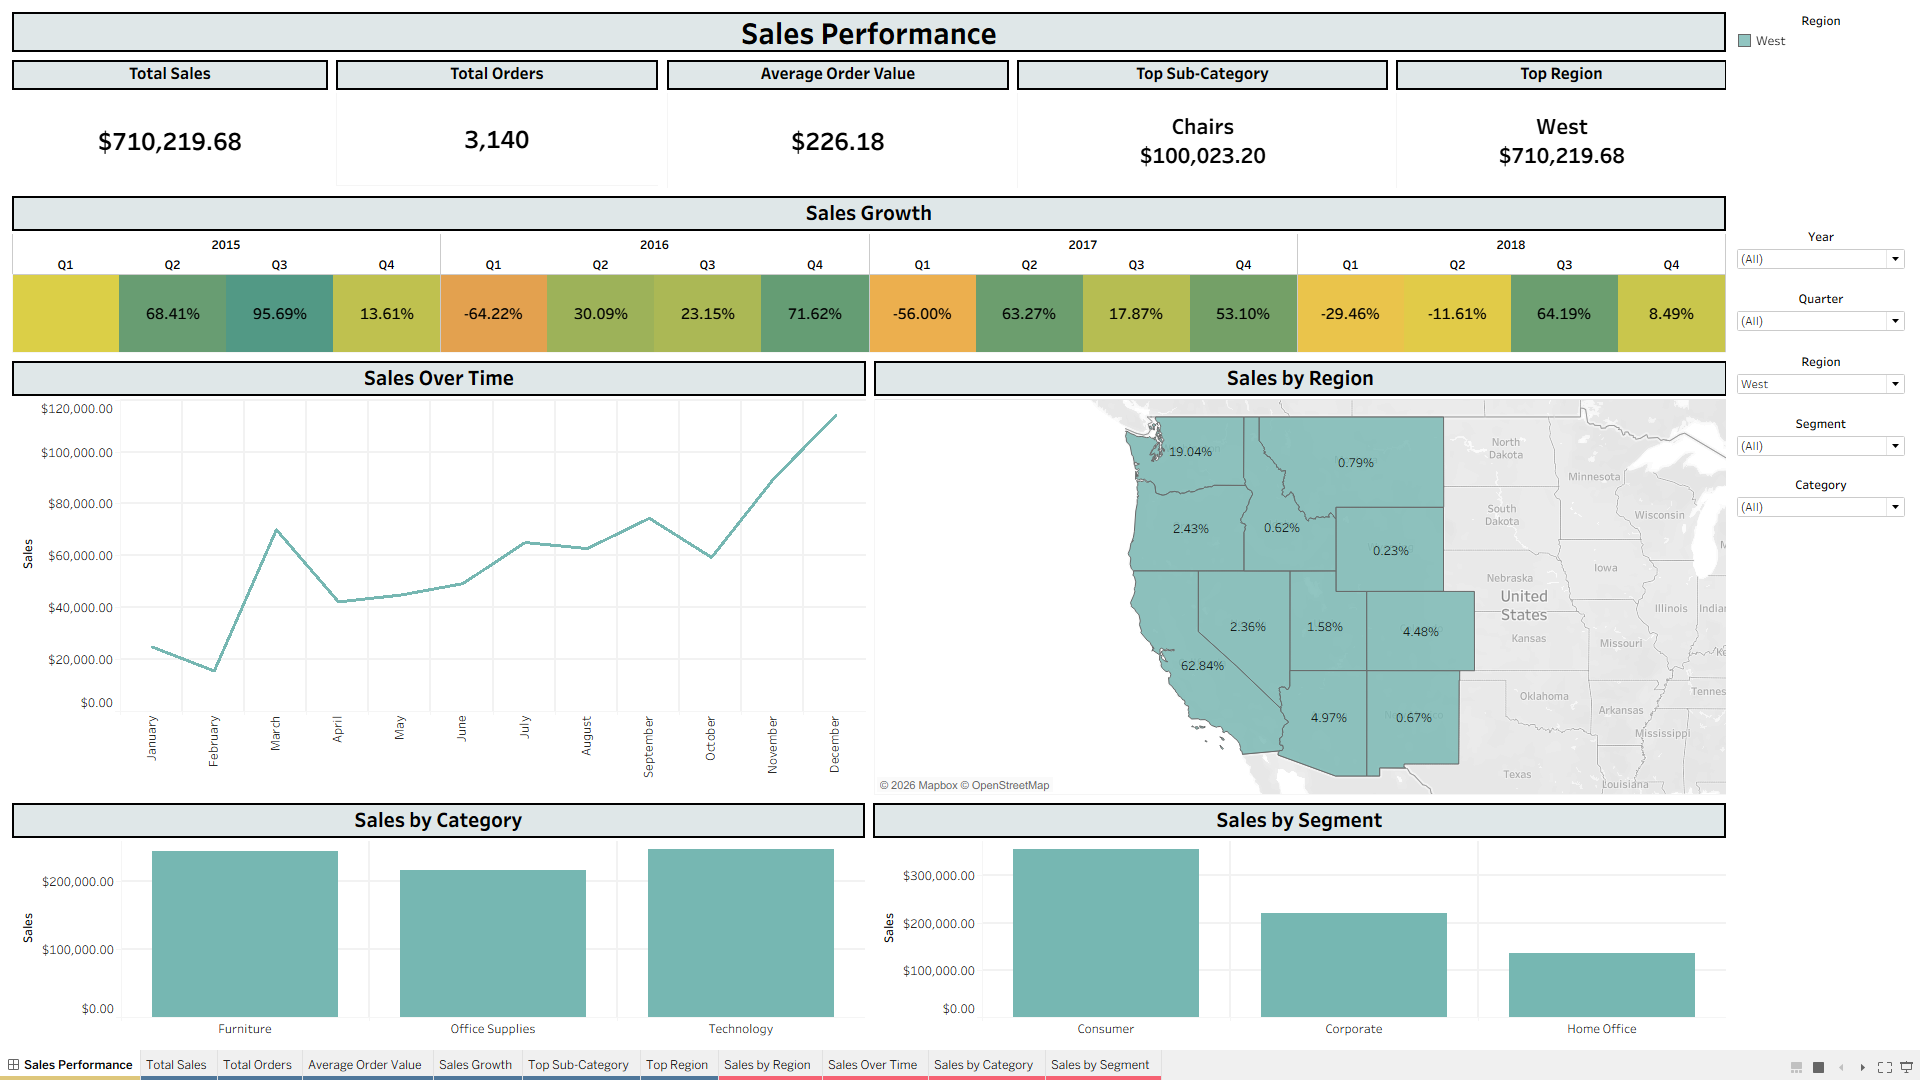

What the dashboard file says about the page in this screenshot:
{"tool":"tableau","page":{"name":"Sales Performance","canvas":[1000,1000],"units":"permille","ordinal":0},"visuals":[{"type":"title","box":[4.3,9.8,896.9,58.5]},{"type":"legend","title":"Sales by Region","param":"[federated.05i0j671lpl5bh1a86nyh1atq0u8].[none:Region:nk]","box":[901.1,9.8,94.6,205.2]},{"type":"worksheet","title":"Total Sales","mark":"Automatic","box":[4.3,68.3,169,127.6]},{"type":"worksheet","title":"Total Orders","mark":"Automatic","box":[173.2,68.3,172,127.6]},{"type":"worksheet","title":"Average Order Value","mark":"Automatic","box":[345.2,68.3,182.4,127.6]},{"type":"worksheet","title":"Top Sub-Category","mark":"Automatic","box":[527.6,68.3,197.2,127.6]},{"type":"worksheet","title":"Top Region","mark":"Automatic","box":[724.8,68.3,176.3,127.6]},{"type":"worksheet","title":"Sales Growth","mark":"Square","cols":["Order Date","Order Date"],"box":[4.3,195.9,896.9,154.1]},{"type":"filter","title":"Sales by Region","param":"[federated.05i0j671lpl5bh1a86nyh1atq0u8].[yr:Order Date:ok]","box":[901.1,214.9,94.6,59]},{"type":"filter","title":"Sales by Region","param":"[federated.05i0j671lpl5bh1a86nyh1atq0u8].[qr:Order Date:ok]","box":[901.1,273.9,94.6,59]},{"type":"filter","title":"Sales by Region","param":"[federated.05i0j671lpl5bh1a86nyh1atq0u8].[none:Region:nk]","box":[901.1,332.9,94.6,75.6]},{"type":"worksheet","title":"Sales Over Time","mark":"Automatic","rows":["Sales"],"cols":["Order Date"],"box":[4.3,350,448.8,413.3]},{"type":"worksheet","title":"Sales by Region","mark":"Multipolygon","box":[453.1,350,448,413.3]},{"type":"filter","title":"Sales by Region","param":"[federated.05i0j671lpl5bh1a86nyh1atq0u8].[none:Segment:nk]","box":[901.1,408.5,94.6,74.4]},{"type":"filter","title":"Sales by Region","param":"[federated.05i0j671lpl5bh1a86nyh1atq0u8].[none:Category:nk]","box":[901.1,482.9,94.6,76.8]},{"type":"blank","box":[901.1,559.8,94.6,430.5]},{"type":"worksheet","title":"Sales by Category","mark":"Automatic","rows":["Sales"],"cols":["Category"],"box":[4.3,763.3,448.3,227]},{"type":"worksheet","title":"Sales by Segment","mark":"Automatic","rows":["Sales"],"cols":["Segment"],"box":[452.6,763.3,448.5,227]}]}

Visuals, with their boxes on the dashboard's canvas, which has no fixed pixel size, in thousandths of its width and height (x1, y1, x2, y2). These are canvas units, not pixel positions in the 1920x1080 screenshot, which may show the page scaled, cropped or inside an application window:
title: (x1=4, y1=10, x2=901, y2=68)
"Sales by Region" legend: (x1=901, y1=10, x2=996, y2=215)
"Total Sales" worksheet: (x1=4, y1=68, x2=173, y2=196)
"Total Orders" worksheet: (x1=173, y1=68, x2=345, y2=196)
"Average Order Value" worksheet: (x1=345, y1=68, x2=528, y2=196)
"Top Sub-Category" worksheet: (x1=528, y1=68, x2=725, y2=196)
"Top Region" worksheet: (x1=725, y1=68, x2=901, y2=196)
"Sales Growth" worksheet (Square marks): (x1=4, y1=196, x2=901, y2=350)
"Sales by Region" filter: (x1=901, y1=215, x2=996, y2=274)
"Sales by Region" filter: (x1=901, y1=274, x2=996, y2=333)
"Sales by Region" filter: (x1=901, y1=333, x2=996, y2=408)
"Sales Over Time" worksheet: (x1=4, y1=350, x2=453, y2=763)
"Sales by Region" worksheet (Multipolygon marks): (x1=453, y1=350, x2=901, y2=763)
"Sales by Region" filter: (x1=901, y1=408, x2=996, y2=483)
"Sales by Region" filter: (x1=901, y1=483, x2=996, y2=560)
blank: (x1=901, y1=560, x2=996, y2=990)
"Sales by Category" worksheet: (x1=4, y1=763, x2=453, y2=990)
"Sales by Segment" worksheet: (x1=453, y1=763, x2=901, y2=990)
